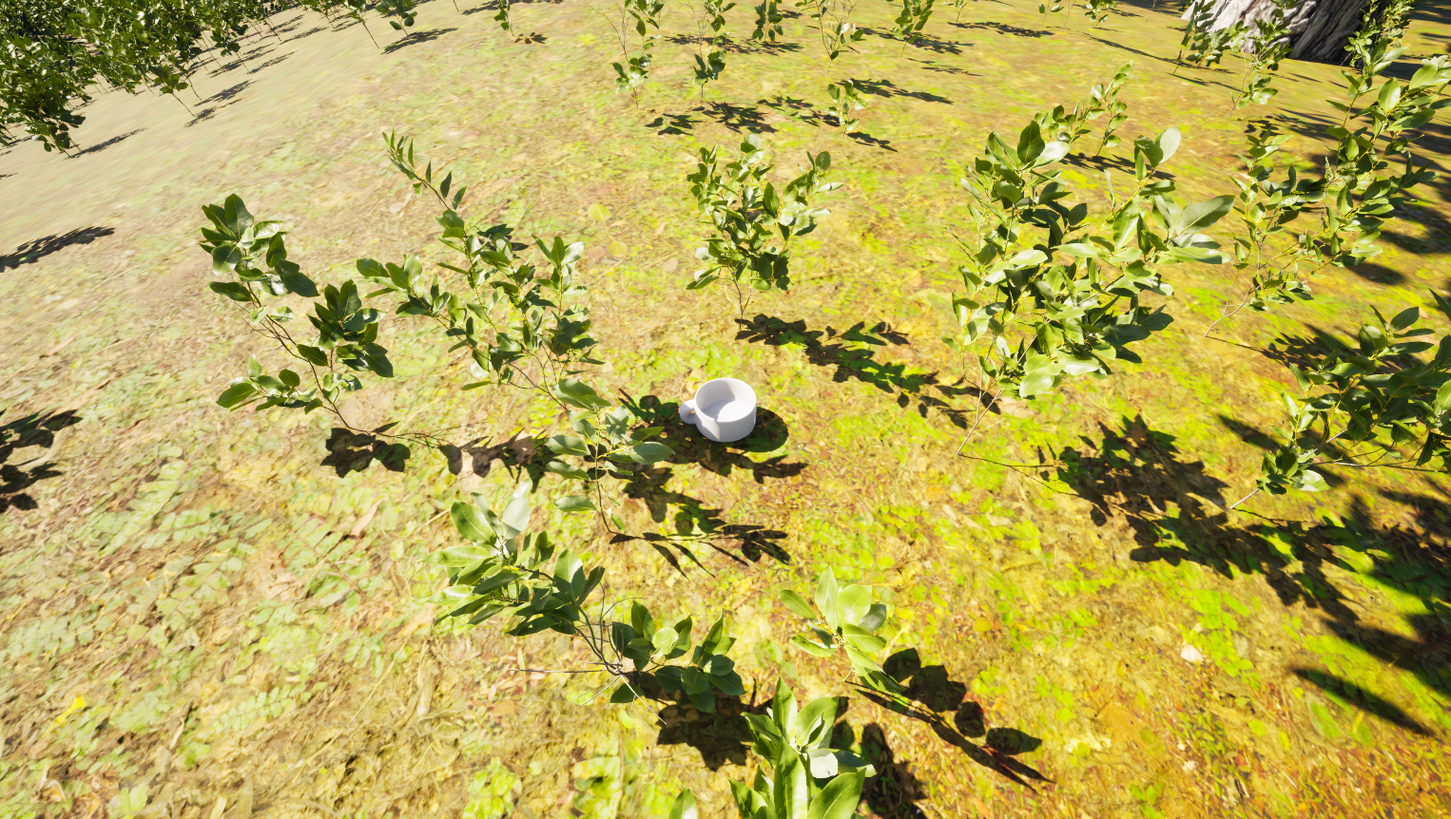Teacup: (674, 367, 767, 451)
